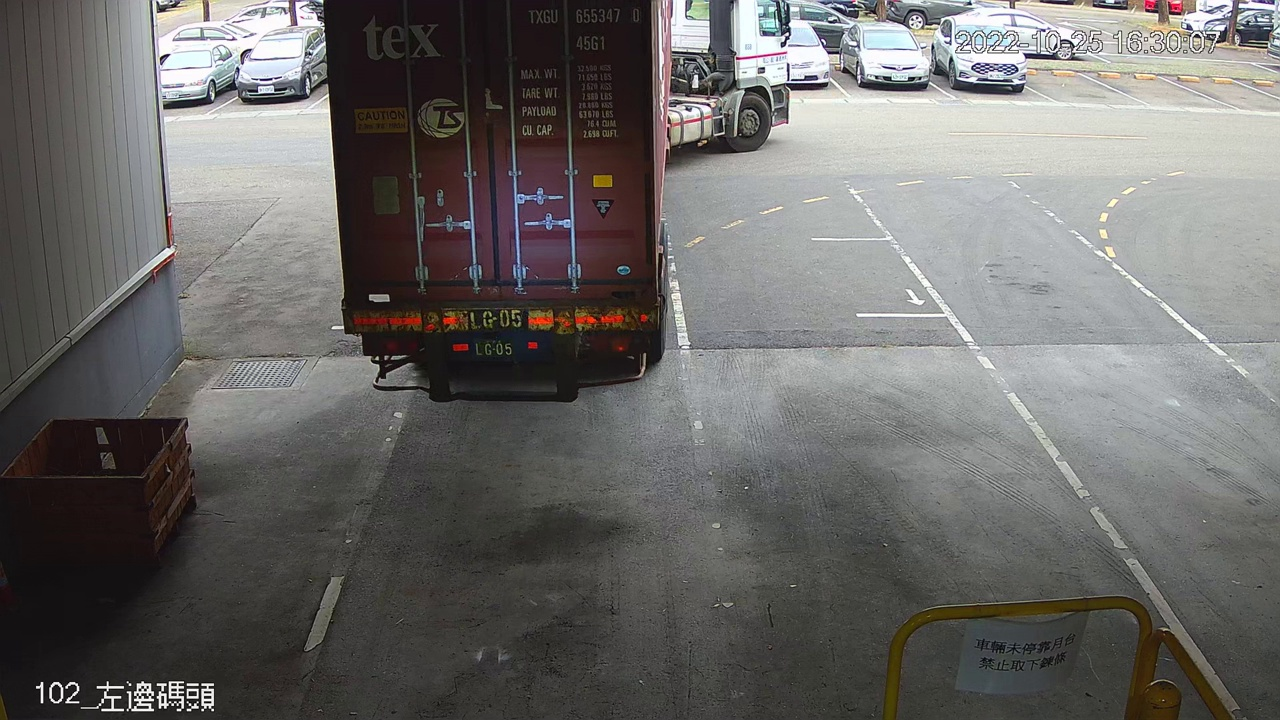container: (521, 3, 645, 55)
